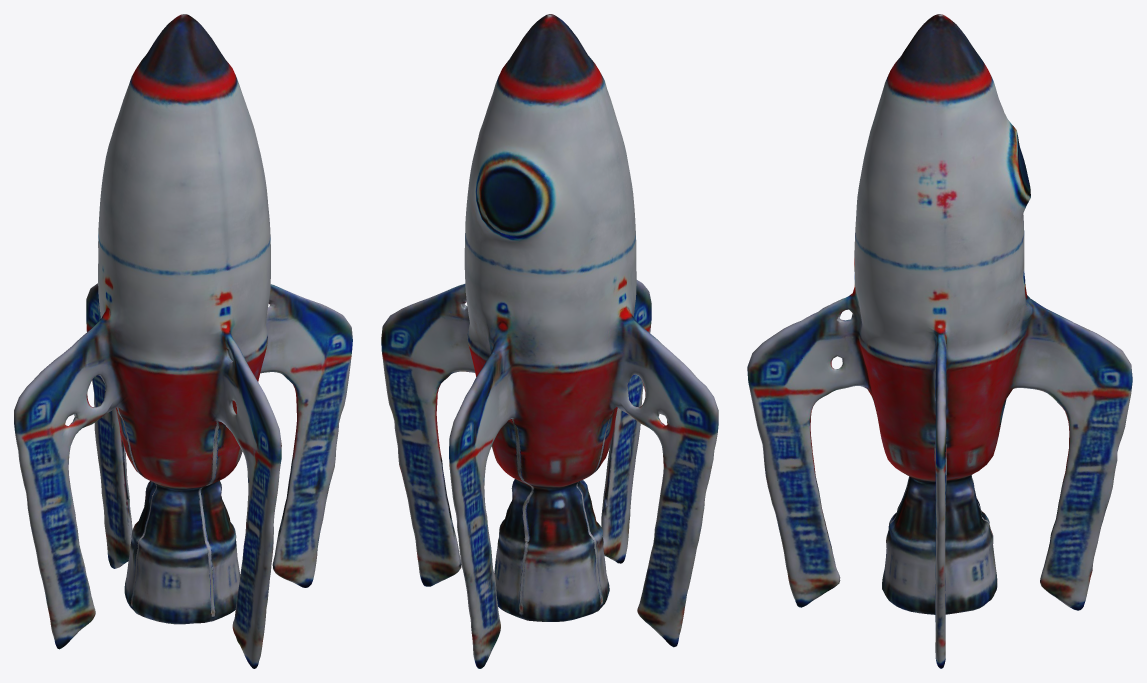
Rendered from rocket.fbx.
The picture shows the model from 3 angles, left to right: view 1: azimuth 30°, elevation 25°; view 2: azimuth 150°, elevation 25°; view 3: azimuth 270°, elevation 25°; orthographic projection.
Visible parts, largest first — view 1: mesh; view 2: mesh; view 3: mesh.
Boxes of the visible parts, x1,y1,x2,y2 form: mesh: [14, 14, 352, 668]; mesh: [381, 14, 718, 668]; mesh: [747, 14, 1132, 668].
Size of the model in its own units: 58.33 by 99.71 by 58.46.
